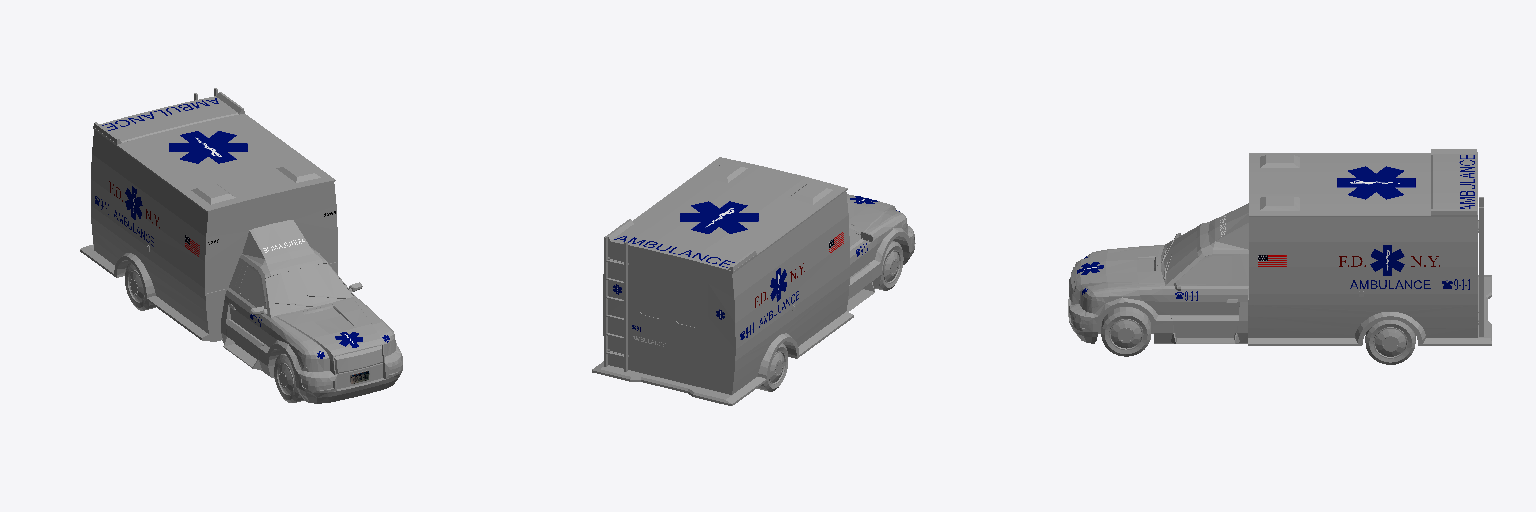
3 renders of one model, left to right at view 1: azimuth 30°, elevation 25°; view 2: azimuth 150°, elevation 25°; view 3: azimuth 270°, elevation 25°, orthographic.
Parts seen in each view (by area): view 1: ambulance_car, ambulance_car_glass, ambulance_car_sign; view 2: ambulance_car, ambulance_car_sign, ambulance_car_glass; view 3: ambulance_car, ambulance_car_sign, ambulance_car_glass.
Boxes of the visible parts, x1,y1,x2,y2 form: ambulance_car: [80, 88, 402, 403]; ambulance_car_glass: [240, 263, 395, 371]; ambulance_car_sign: [95, 98, 389, 383]; ambulance_car: [592, 157, 915, 405]; ambulance_car_sign: [613, 196, 899, 346]; ambulance_car_glass: [640, 222, 907, 327]; ambulance_car: [1068, 149, 1491, 364]; ambulance_car_sign: [1077, 155, 1474, 300]; ambulance_car_glass: [1079, 228, 1231, 311].
Bounding box in the file's own units: 5.48 × 5.84 × 14.35.
Materials: 3 (1 with a texture image).